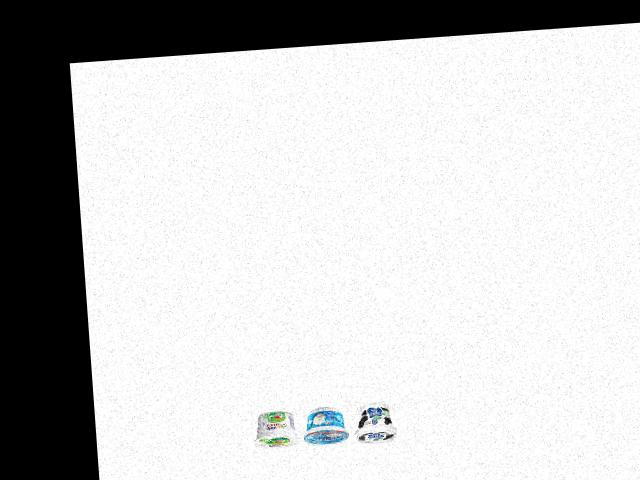cotage: (248, 406, 301, 453)
